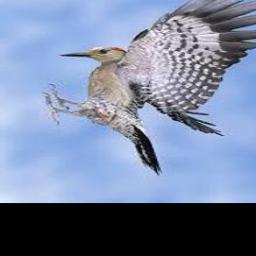Woodpecker: (42, 0, 256, 175)
